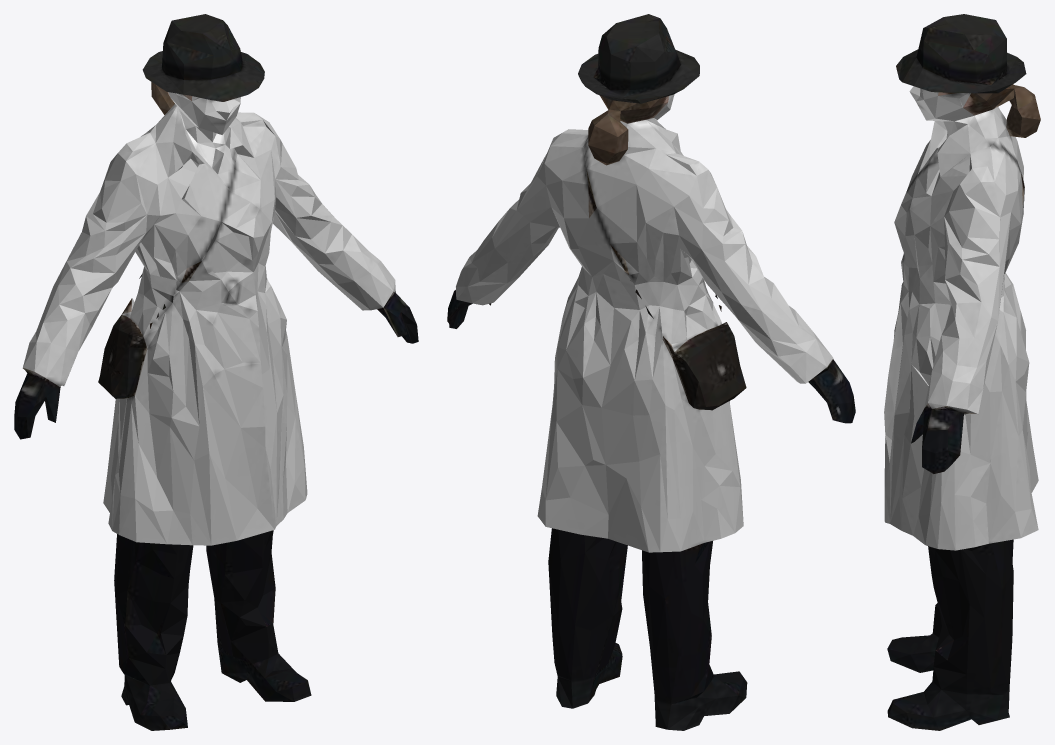
The model's file is spy.glb.
3 views of the same model, side by side, from view 1: azimuth 30°, elevation 25°; view 2: azimuth 150°, elevation 25°; view 3: azimuth 270°, elevation 25° (orthographic).
Visible parts, largest first — view 1: spy; view 2: spy; view 3: spy.
Part boxes in pixels (bbox=[...]): spy: bbox=[14, 14, 418, 730]; spy: bbox=[447, 14, 855, 730]; spy: bbox=[884, 14, 1040, 730].
Bounding box in the file's own units: 1.08 × 1.75 × 0.3711.
Materials: 2 (2 with a texture image).
